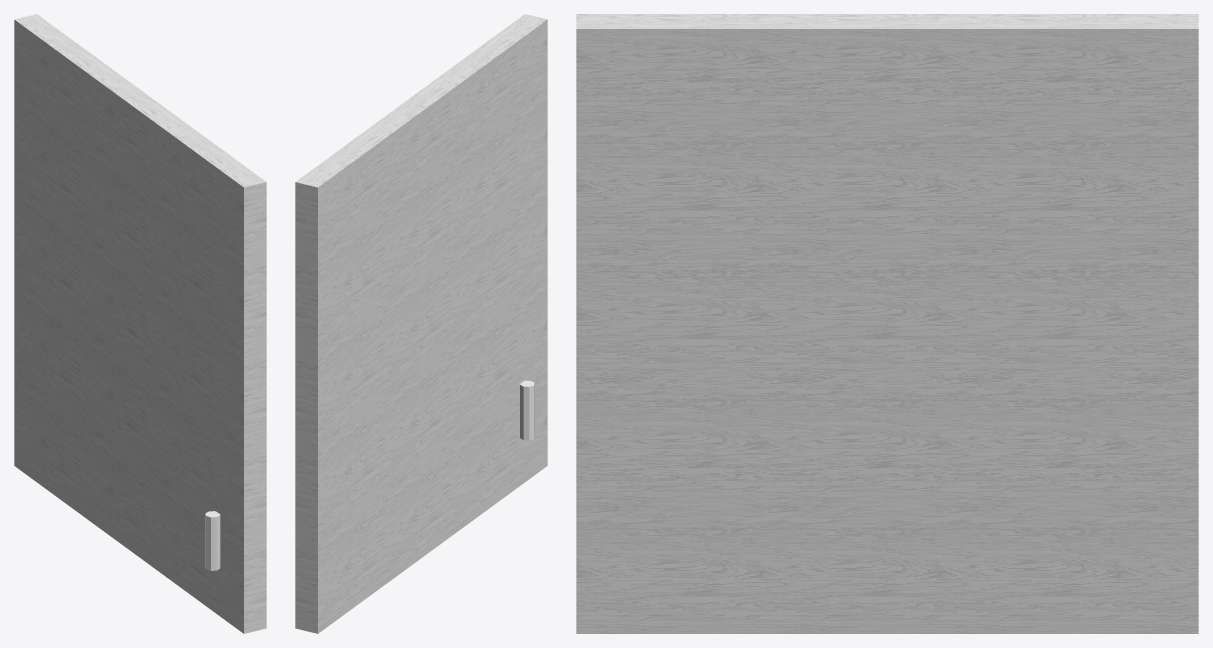
File: Cabinet_83d42ccf.obj
The picture shows the model from 3 angles, left to right: view 1: azimuth 30°, elevation 25°; view 2: azimuth 150°, elevation 25°; view 3: azimuth 270°, elevation 25°; orthographic projection. The views are drawn at different scales.
Visible parts, largest first — view 1: FP405:Cube.1415_d41ad0cf; view 2: FP405:Cube.1415_d41ad0cf; view 3: FP405:Cube.1415_d41ad0cf.
Boxes of the visible parts, x1,y1,x2,y2 form: FP405:Cube.1415_d41ad0cf: [14, 14, 266, 633]; FP405:Cube.1415_d41ad0cf: [295, 14, 547, 633]; FP405:Cube.1415_d41ad0cf: [576, 14, 1198, 633].
Size of the model in its own units: 0.0378 by 0.4633 by 0.4321.
